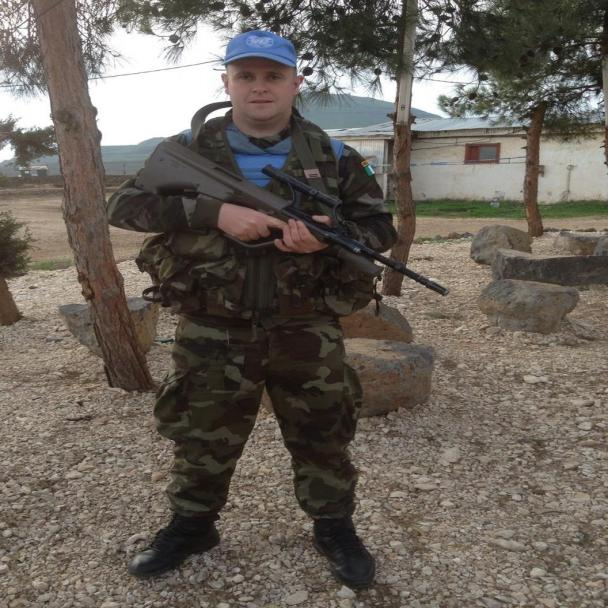Gun: (131, 128, 480, 323)
Hand: (202, 196, 330, 268)
